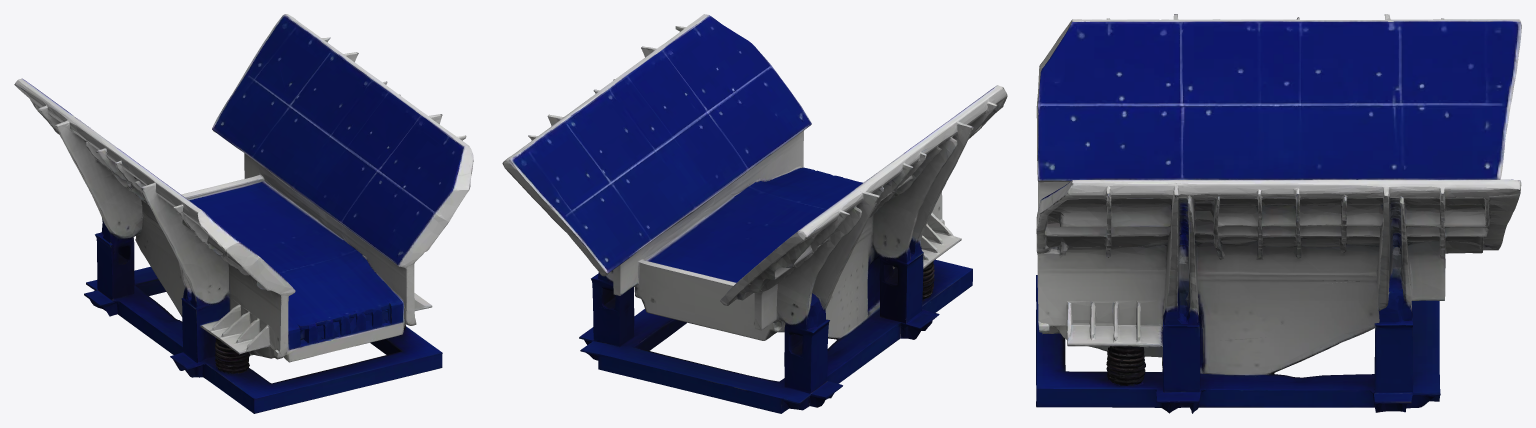
File: vibro_feeder.glb
3 views of the same model, side by side, from view 1: azimuth 30°, elevation 25°; view 2: azimuth 150°, elevation 25°; view 3: azimuth 270°, elevation 25° (orthographic). The views are drawn at different scales.
Visible parts, largest first — view 1: geometry_0; view 2: geometry_0; view 3: geometry_0.
Boxes of the visible parts, x1,y1,x2,y2 form: geometry_0: (14,14,473,413); geometry_0: (502,14,1007,413); geometry_0: (1036,14,1521,413).
Size of the model in its own units: 0.8863 by 0.5704 by 0.9989.
1 material, 1 textured.
